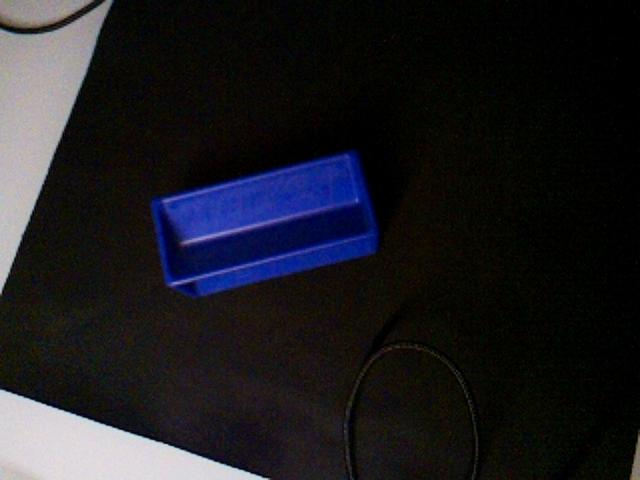blue: (150, 148, 382, 299)
